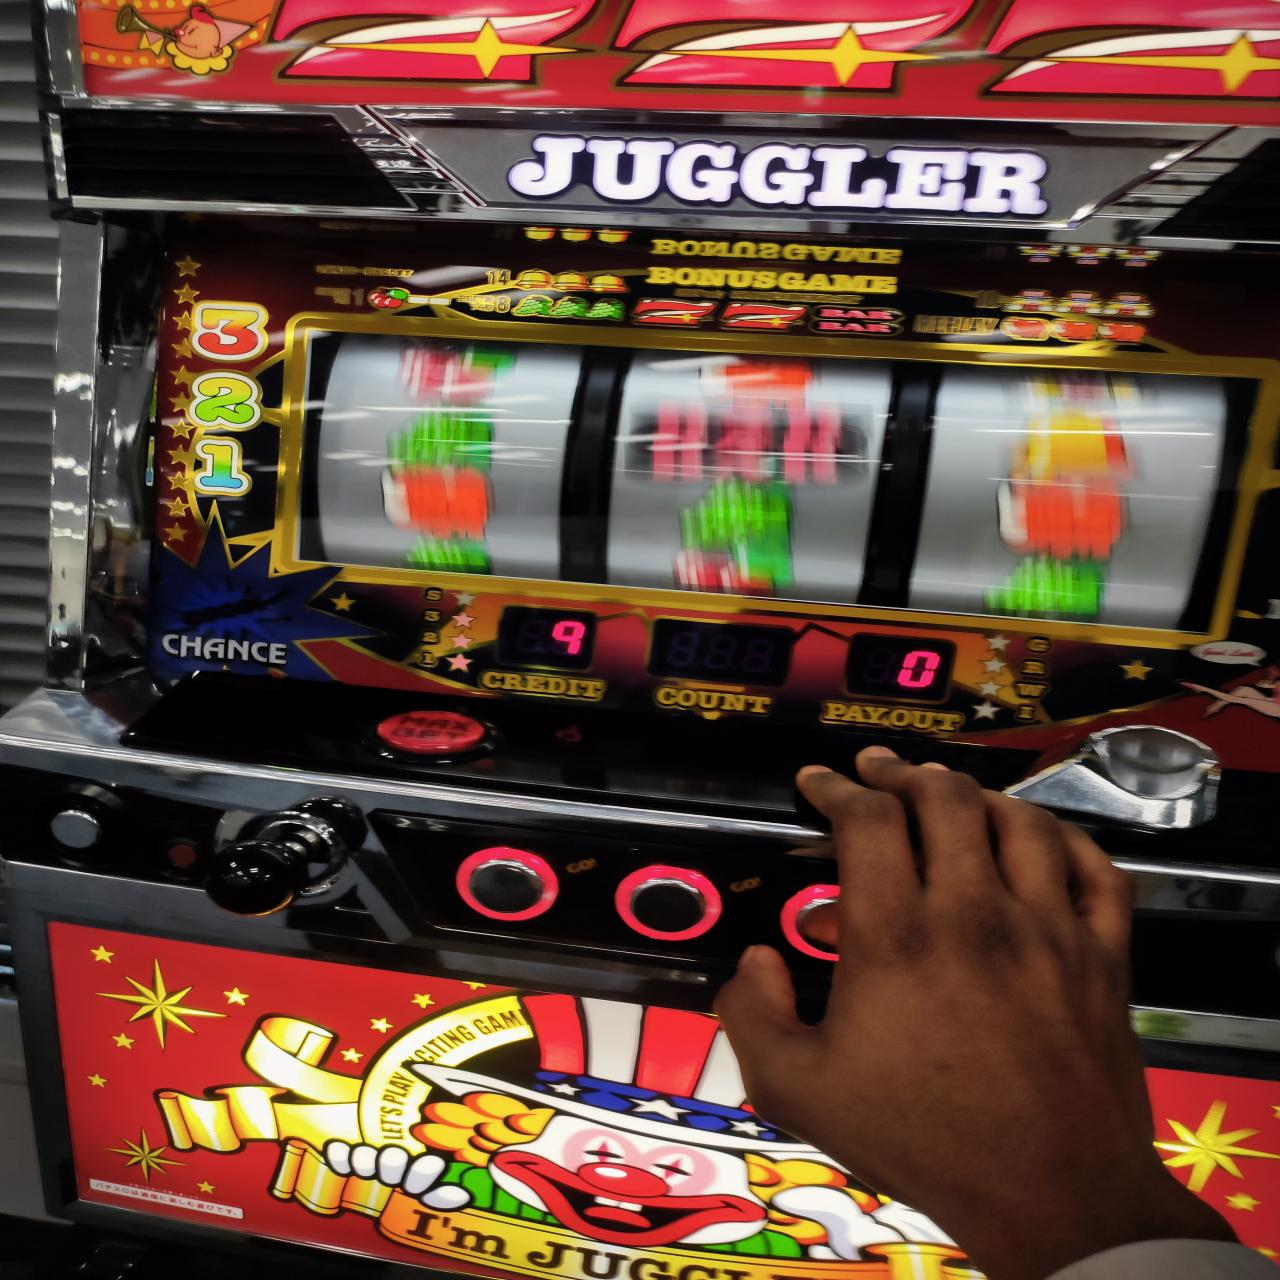rhino: (294, 331, 1254, 632)
